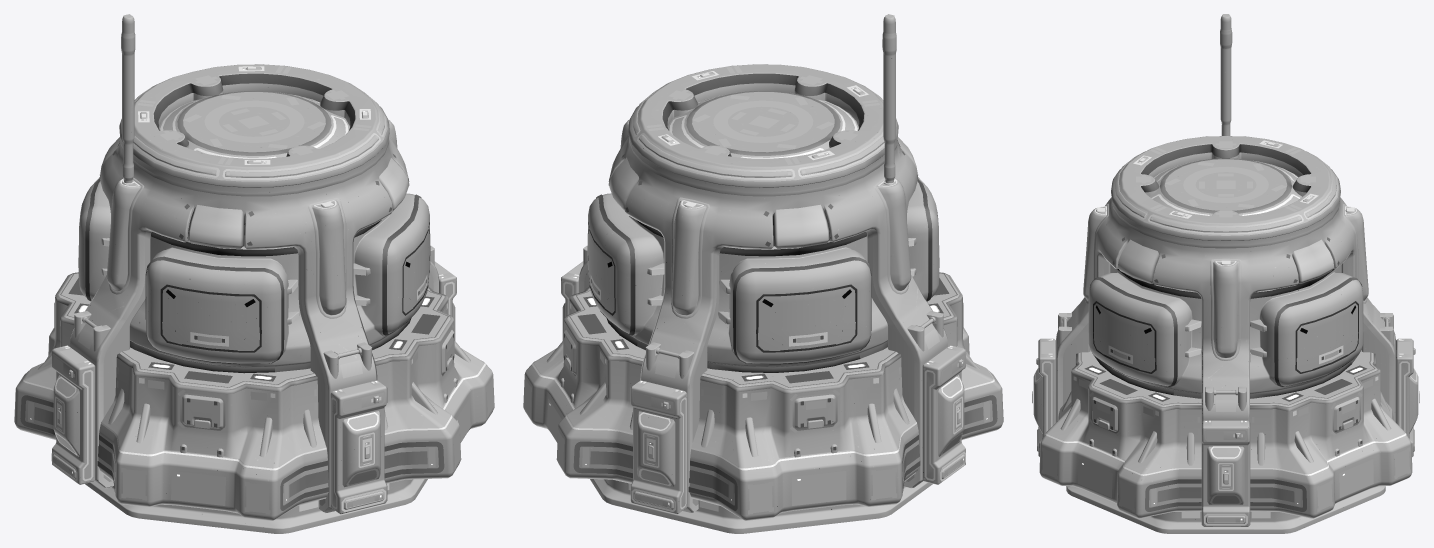
File: SM_Pump_Merged.fbx
The picture shows the model from 3 angles, left to right: view 1: azimuth 30°, elevation 25°; view 2: azimuth 150°, elevation 25°; view 3: azimuth 270°, elevation 25°; orthographic projection. The views are drawn at different scales.
Parts seen in each view (by area): view 1: SM_Pump_Merged_LOD0; view 2: SM_Pump_Merged_LOD0; view 3: SM_Pump_Merged_LOD0.
Part boxes in pixels (box(x1,y1,x2,y2)): SM_Pump_Merged_LOD0: box(14, 14, 494, 533); SM_Pump_Merged_LOD0: box(523, 14, 1003, 533); SM_Pump_Merged_LOD0: box(1032, 14, 1419, 533).
Size of the model in its own units: 479 by 479 by 544.
